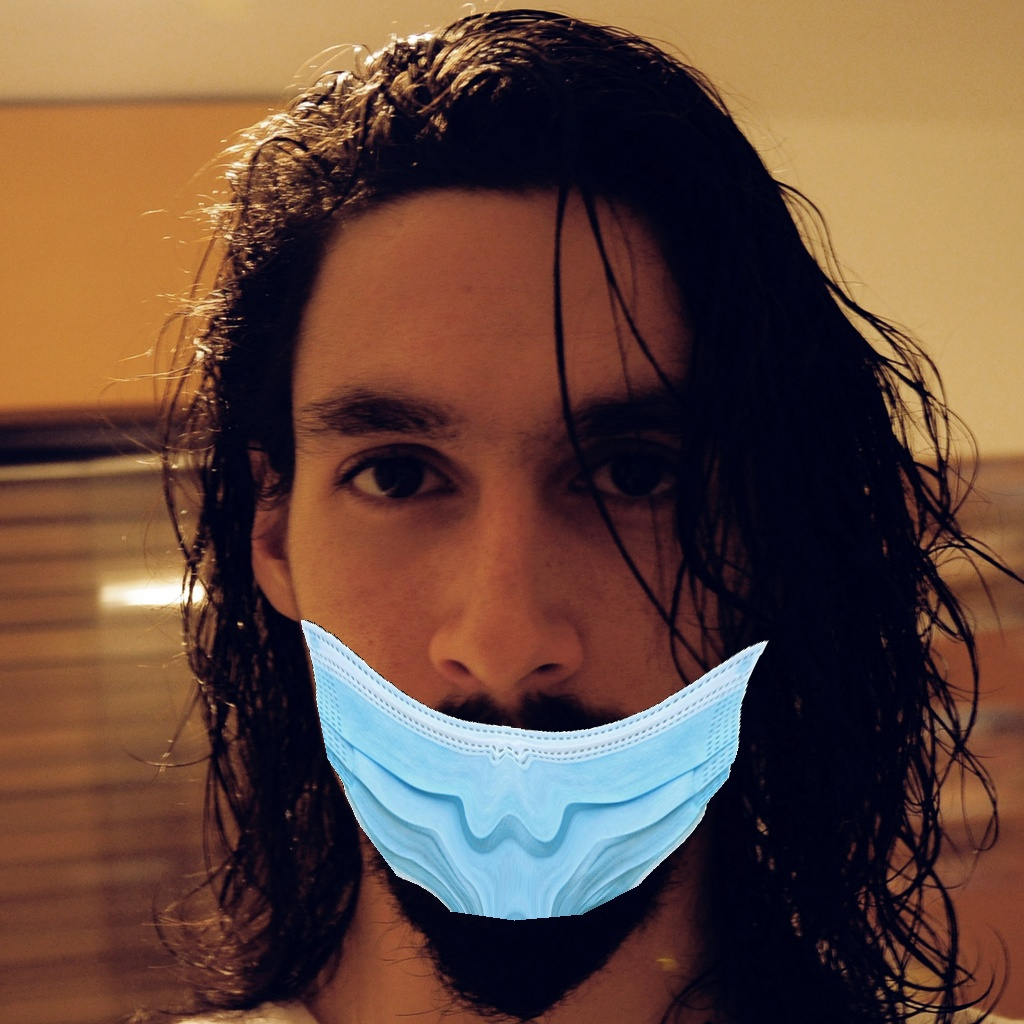mascarilla_mal_puesta: (214, 333, 819, 943)
